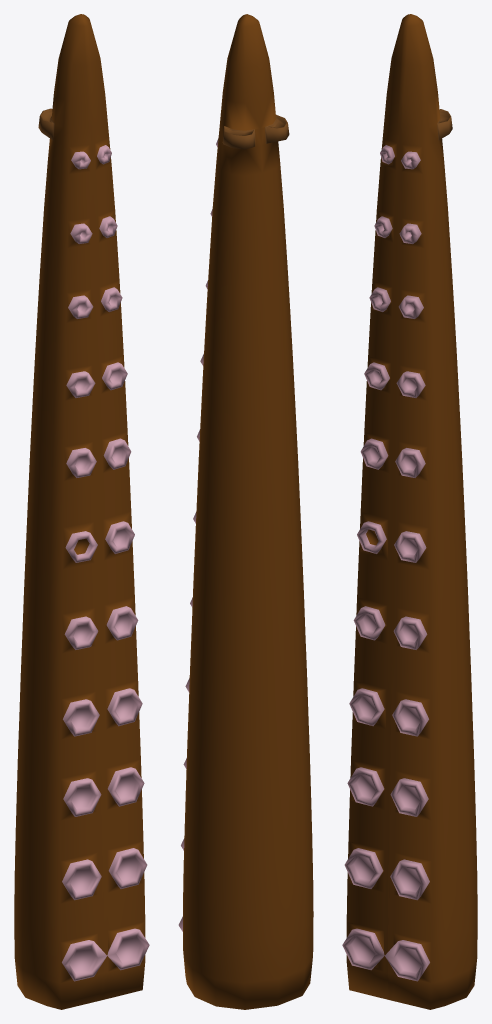
File: Tentacle__fin.fbx
The picture shows the model from 3 angles, left to right: view 1: azimuth 30°, elevation 25°; view 2: azimuth 210°, elevation 25°; view 3: azimuth 330°, elevation 25°; orthographic projection.
Visible parts, largest first — view 1: Tentacle; view 2: Tentacle; view 3: Tentacle.
Boxes of the visible parts, x1,y1,x2,y2 form: Tentacle: (14,14,149,1009); Tentacle: (178,14,313,1009); Tentacle: (342,14,477,1009).
Size of the model in its own units: 59.35 by 487 by 53.38.
